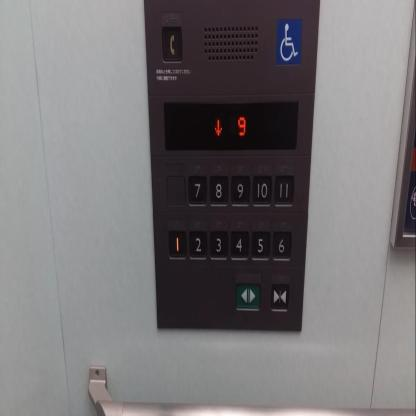1: (167, 229, 187, 261)
10: (251, 173, 272, 207)
11: (273, 173, 294, 207)
2: (188, 229, 208, 261)
3: (209, 229, 228, 261)
4: (228, 229, 249, 261)
5: (250, 229, 271, 261)
6: (272, 229, 292, 261)
7: (187, 173, 207, 207)
8: (209, 173, 228, 207)
9: (229, 173, 250, 207)
CH: (274, 18, 302, 66)
call: (160, 25, 184, 61)
close: (270, 281, 290, 312)
empty: (165, 173, 186, 207)
led: (164, 101, 298, 150)
open: (235, 282, 261, 310)
